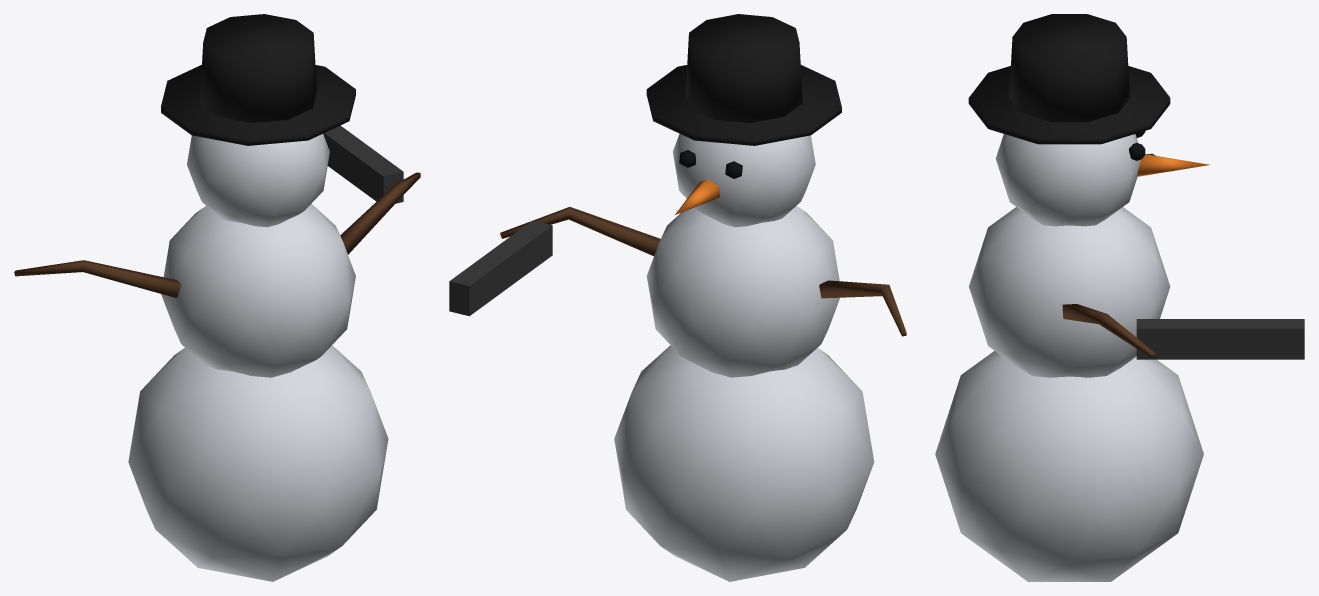
The model's file is snowman_gangsta.glb.
3 views of the same model, side by side, from view 1: azimuth 30°, elevation 25°; view 2: azimuth 150°, elevation 25°; view 3: azimuth 270°, elevation 25° (orthographic).
Parts seen in each view (by area): view 1: snowman_gangsta; view 2: snowman_gangsta; view 3: snowman_gangsta.
Part boxes in pixels (bbox=[...]): snowman_gangsta: bbox=[14, 14, 420, 581]; snowman_gangsta: bbox=[449, 14, 906, 581]; snowman_gangsta: bbox=[935, 14, 1304, 581].
Size of the model in its own units: 1.41 by 1.77 by 1.1.
